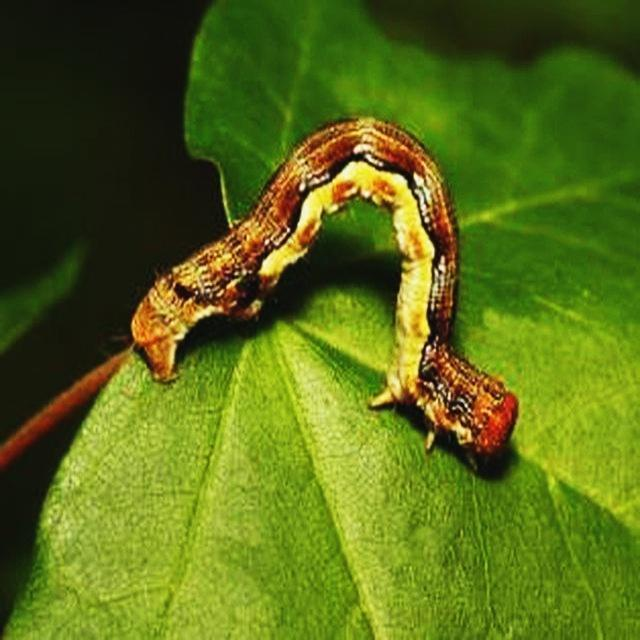gusano_cogollero: (130, 112, 520, 465)
